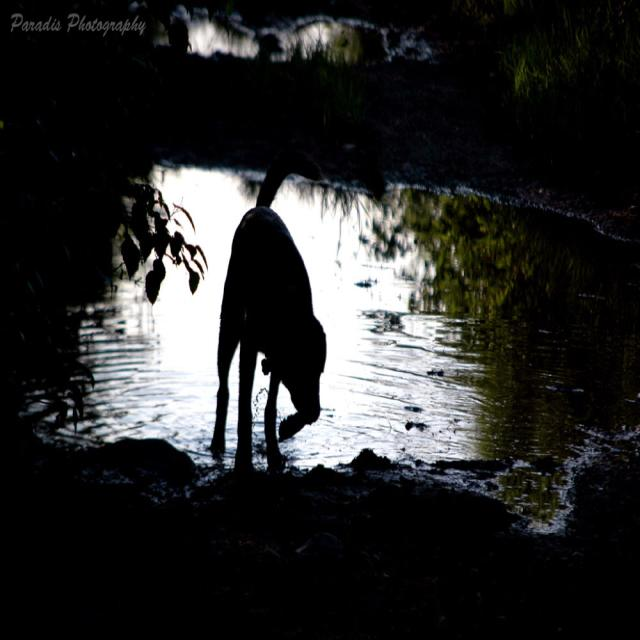Dog: (196, 192, 359, 548)
